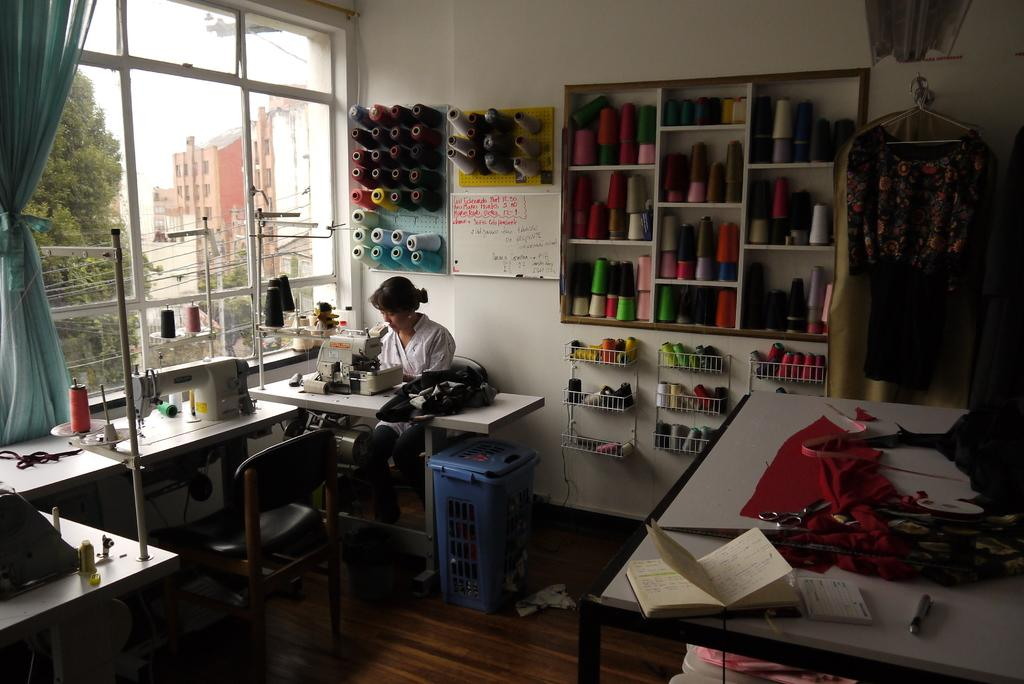Chair: (202, 430, 348, 646), (376, 357, 490, 564)
